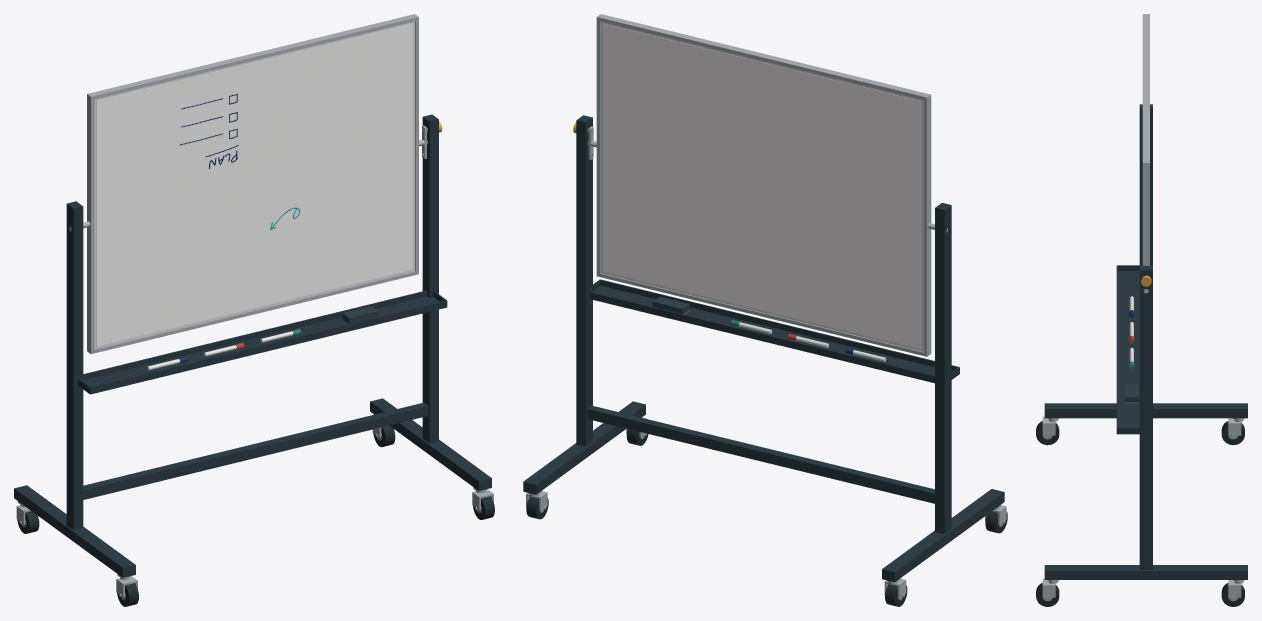
Rendered from mobile_whiteboard.glb.
3 renders of one model, left to right at view 1: azimuth 30°, elevation 25°; view 2: azimuth 150°, elevation 25°; view 3: azimuth 270°, elevation 25°, orthographic. The views are drawn at different scales.
Visible parts, largest first — view 1: Front_mesh, Felt_mesh; view 2: Felt_mesh; view 3: Felt_mesh.
Boxes of the visible parts, x1,y1,x2,y2 form: Front_mesh: (96, 23, 412, 346); Felt_mesh: (14, 14, 494, 606); Felt_mesh: (523, 14, 1007, 606); Felt_mesh: (1036, 14, 1247, 606).
Bounding box in the file's own units: 1.38 × 1.66 × 0.73.
2 materials, 2 textured.
